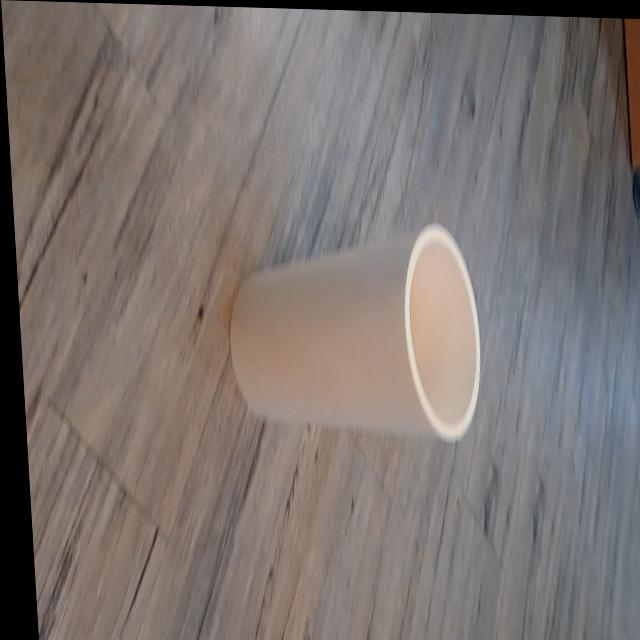CORAL: (199, 169, 510, 500)
